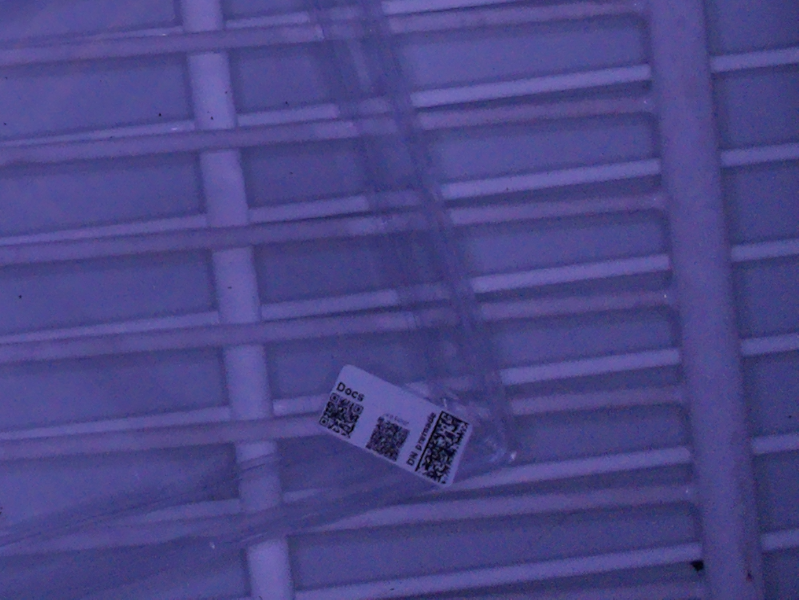plate: (1, 1, 519, 597)
